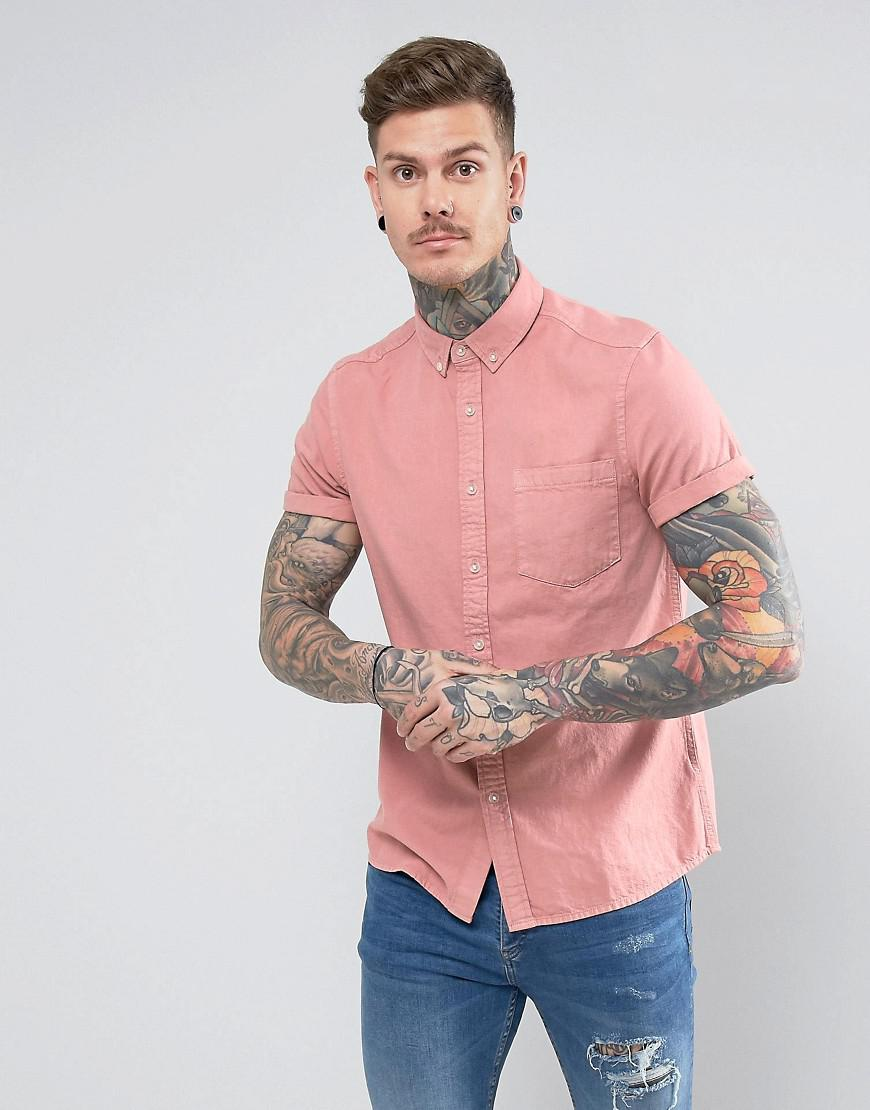teeshirt: (256, 278, 734, 920)
